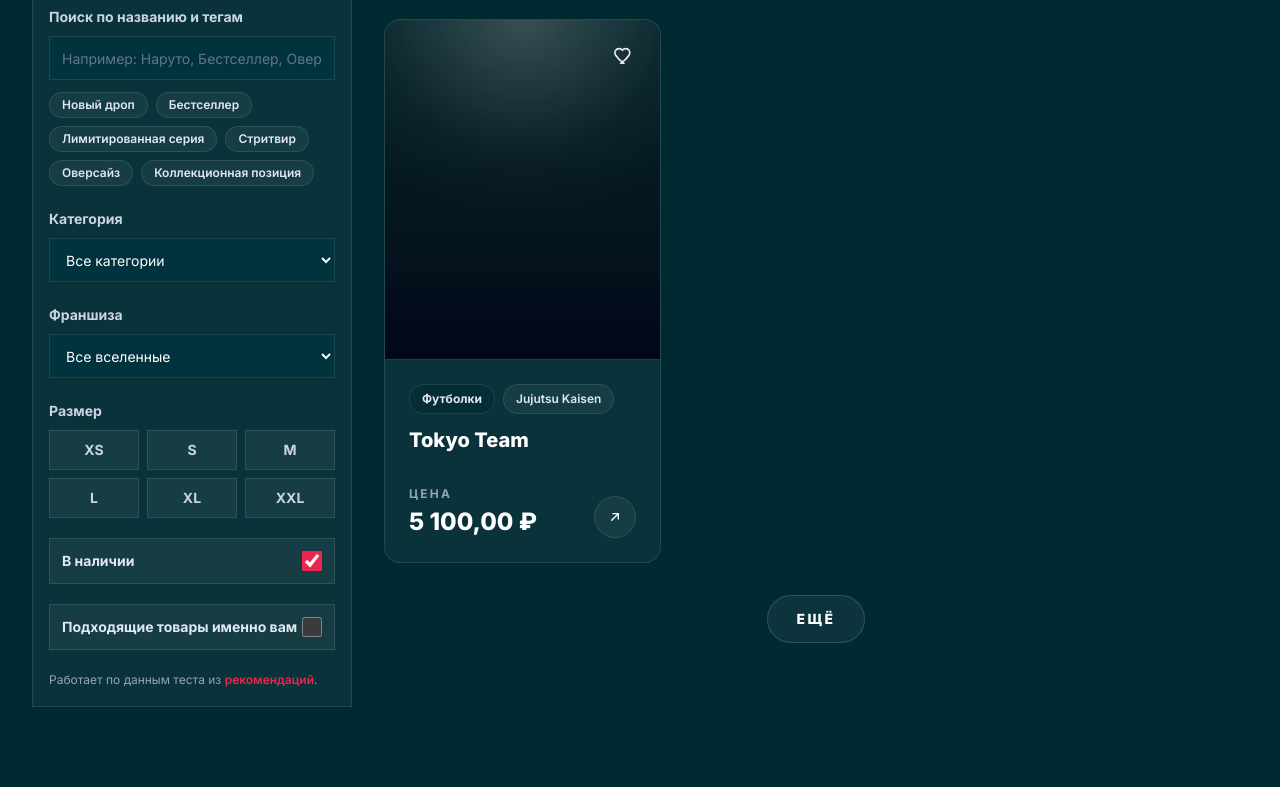
Test: CatalogPage › uses the backend next offset for the next page request
The width and height of the screenshot is (1280, 787).
(page scrolled)
Expected: the link "Футболки Jujutsu Kaisen Tokyo Team Цена 5 100,00 ₽" is shown, [384,19,661,563]
Click the button "Ещё": click(816, 619) [767,595,864,643]
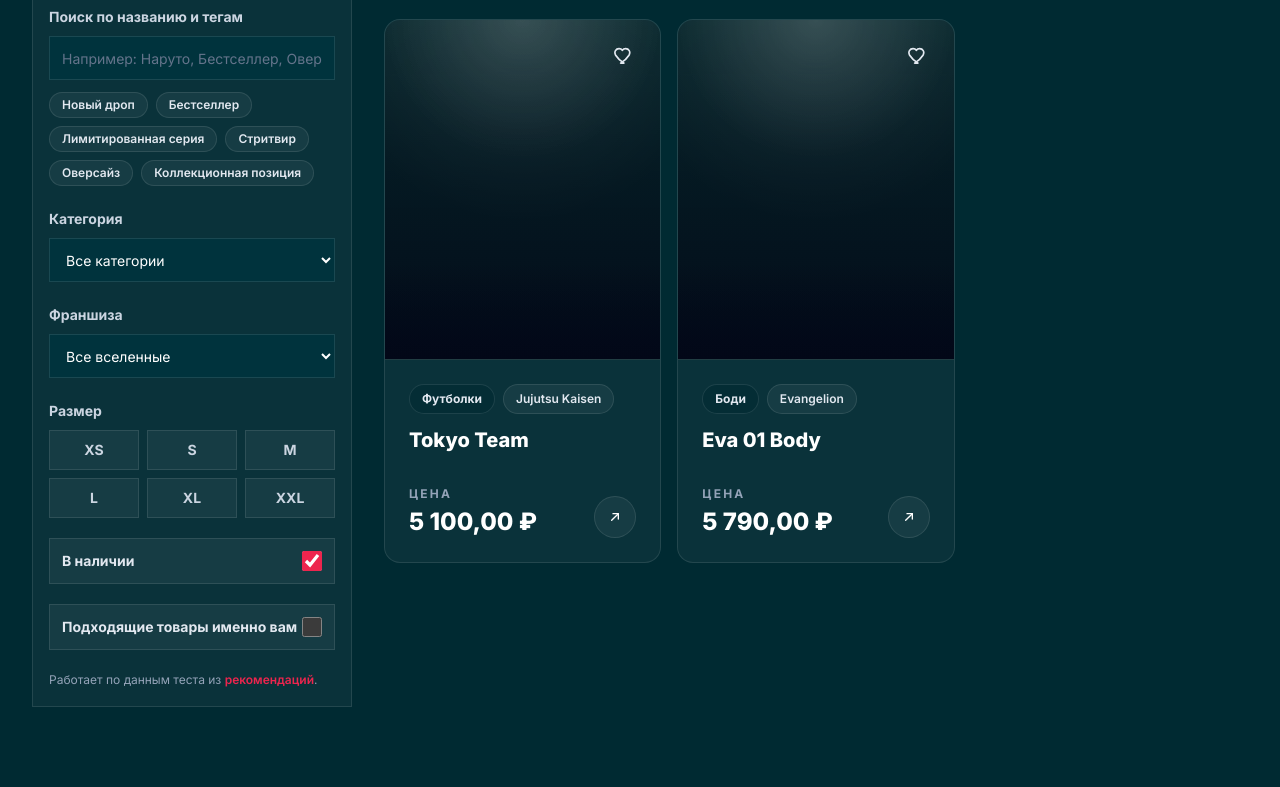
Result: the link "Боди Evangelion Eva 01 Body Цена 5 790,00 ₽" is shown at [677,19,955,563]
